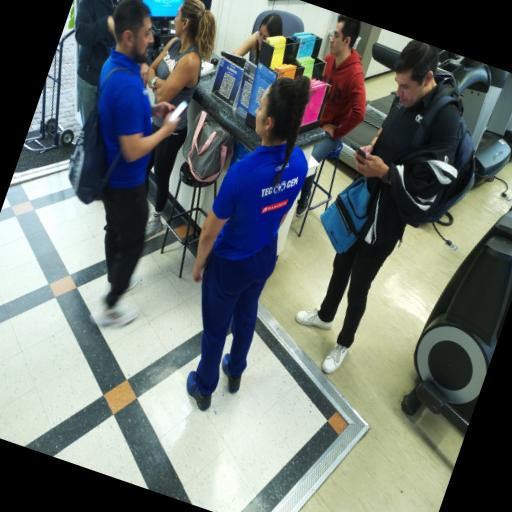person: (296, 40, 460, 373), (187, 77, 310, 410), (94, 0, 179, 325), (312, 14, 366, 162), (75, 0, 123, 122), (145, 110, 187, 239), (231, 13, 282, 65)
